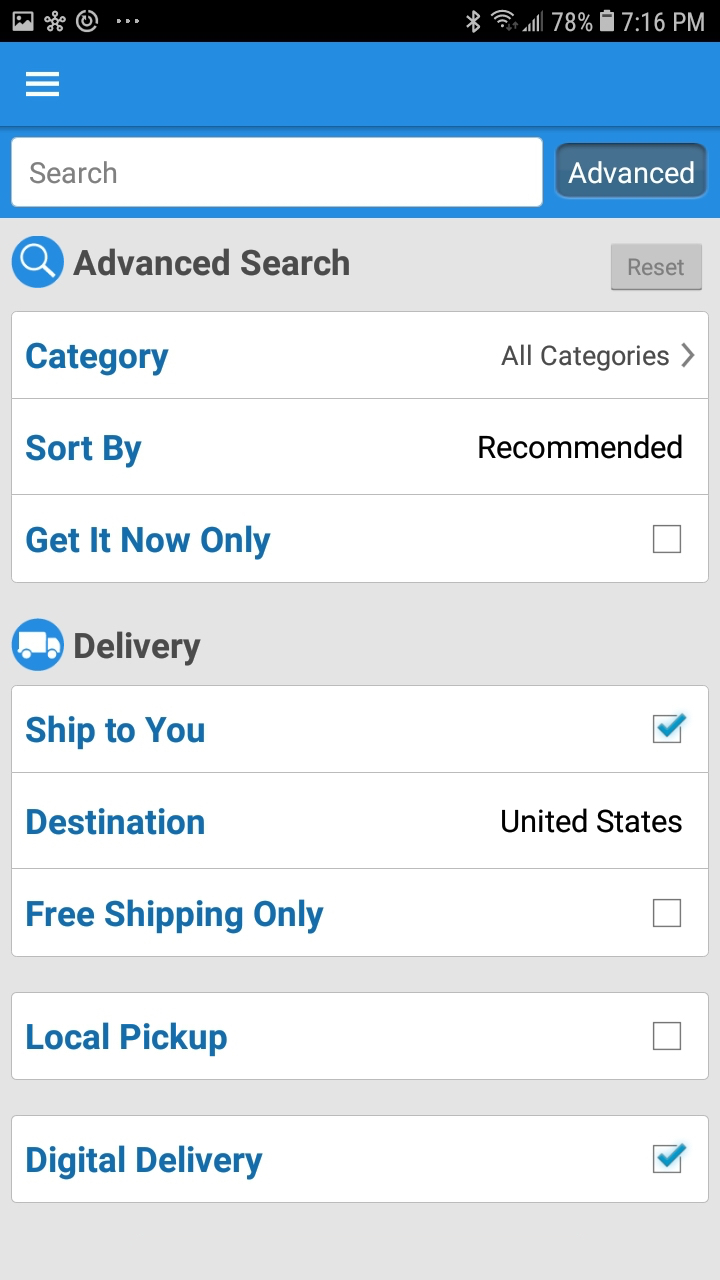CheckedTextView: (27, 1142, 687, 1181), (26, 712, 687, 750), (27, 524, 682, 561), (27, 899, 682, 934), (27, 1022, 682, 1057)
EditText: (11, 138, 543, 208)
Icon: (12, 236, 66, 289), (26, 72, 60, 98), (681, 343, 695, 368)
Image: (12, 618, 66, 672)
Text: (27, 899, 325, 934), (27, 525, 272, 561), (27, 1145, 264, 1181), (73, 248, 350, 277), (27, 1022, 228, 1057), (26, 715, 205, 750), (479, 434, 684, 460), (26, 342, 170, 377), (27, 808, 205, 836), (501, 807, 683, 834), (501, 344, 670, 372), (75, 630, 202, 666), (26, 435, 143, 469), (31, 162, 118, 185)
TextButton: (555, 143, 709, 200), (610, 243, 702, 291)
UpperTaskBar: (1, 1, 720, 43)
